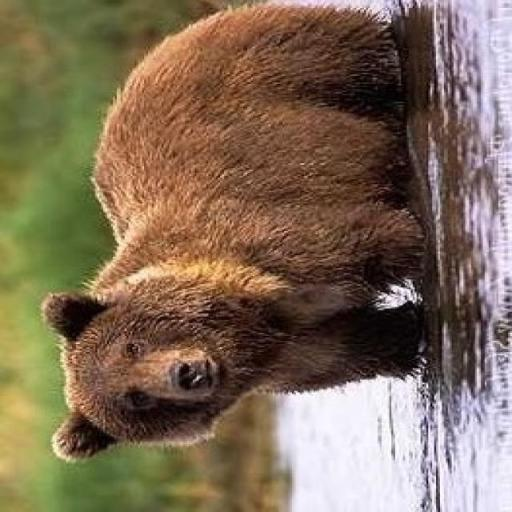Bear: (38, 0, 438, 462)
